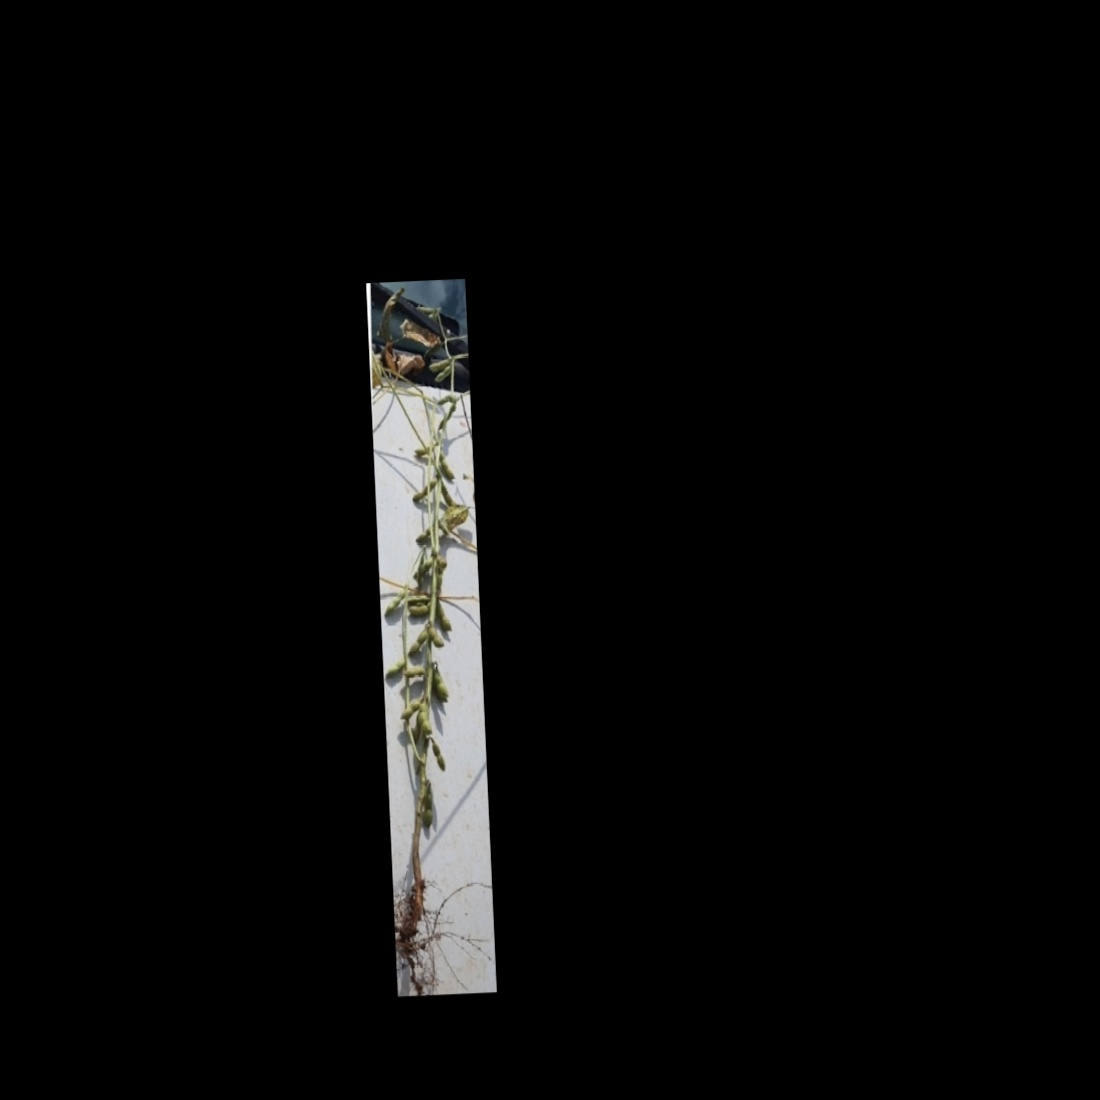pod: (405, 623, 432, 659), (382, 589, 407, 618), (420, 788, 437, 829), (410, 477, 436, 504), (397, 695, 420, 721), (431, 740, 448, 775), (435, 599, 452, 634), (416, 698, 432, 734), (384, 655, 405, 681), (439, 451, 457, 482), (429, 625, 447, 650), (403, 661, 430, 677), (406, 600, 431, 617), (426, 357, 451, 374), (434, 365, 453, 384), (441, 482, 456, 505)
soy: (368, 308, 487, 942)
